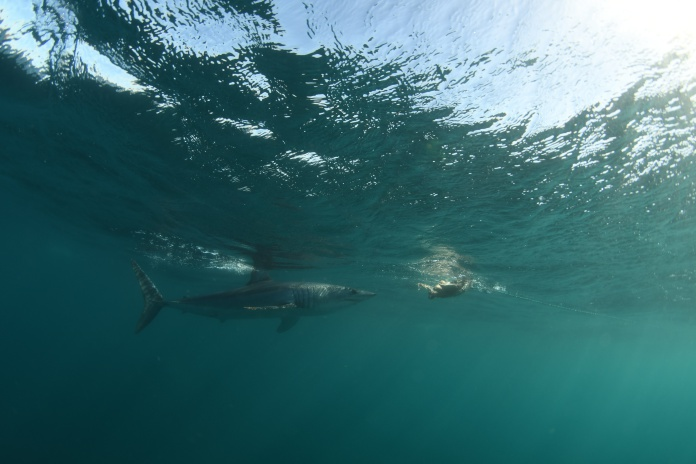Mako: (99, 241, 395, 360)
